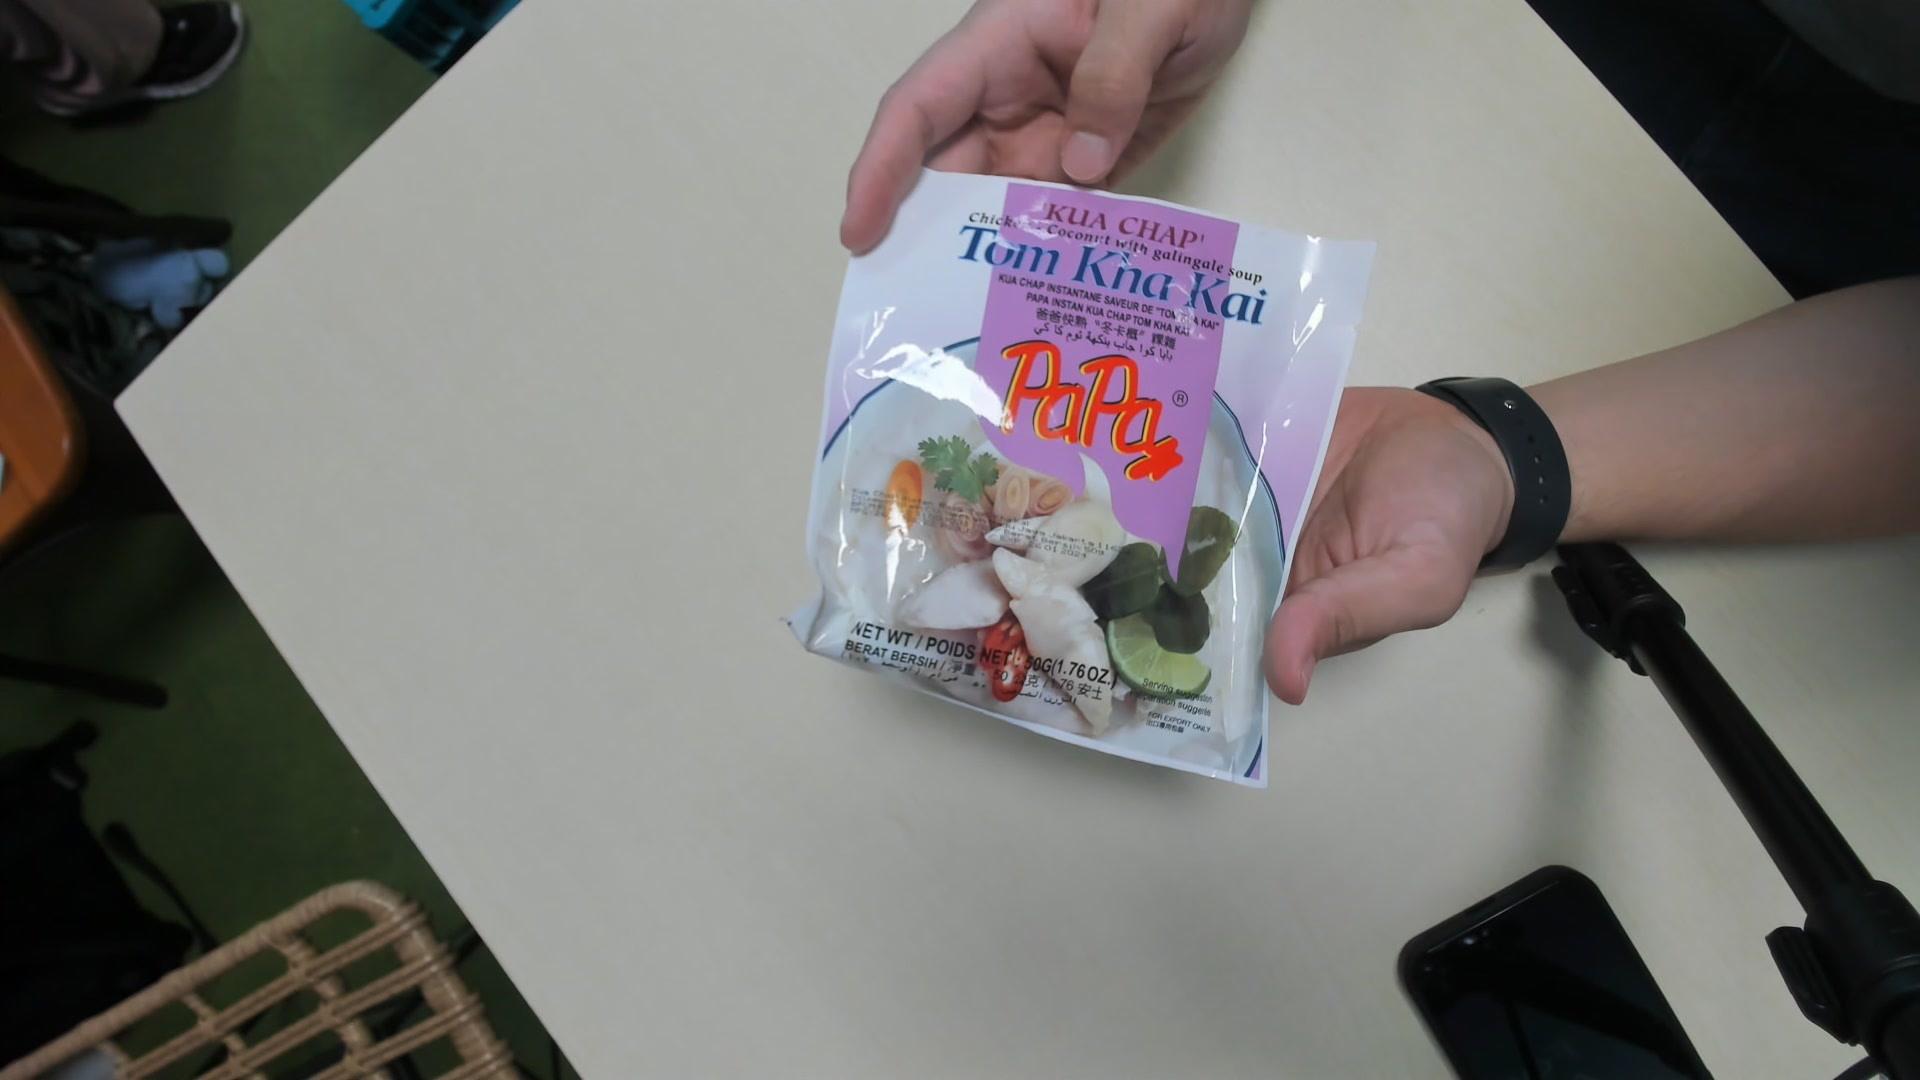OtherSauceDressing_0-99g_NonHalal_NonHealthy: (789, 164, 1367, 781)
